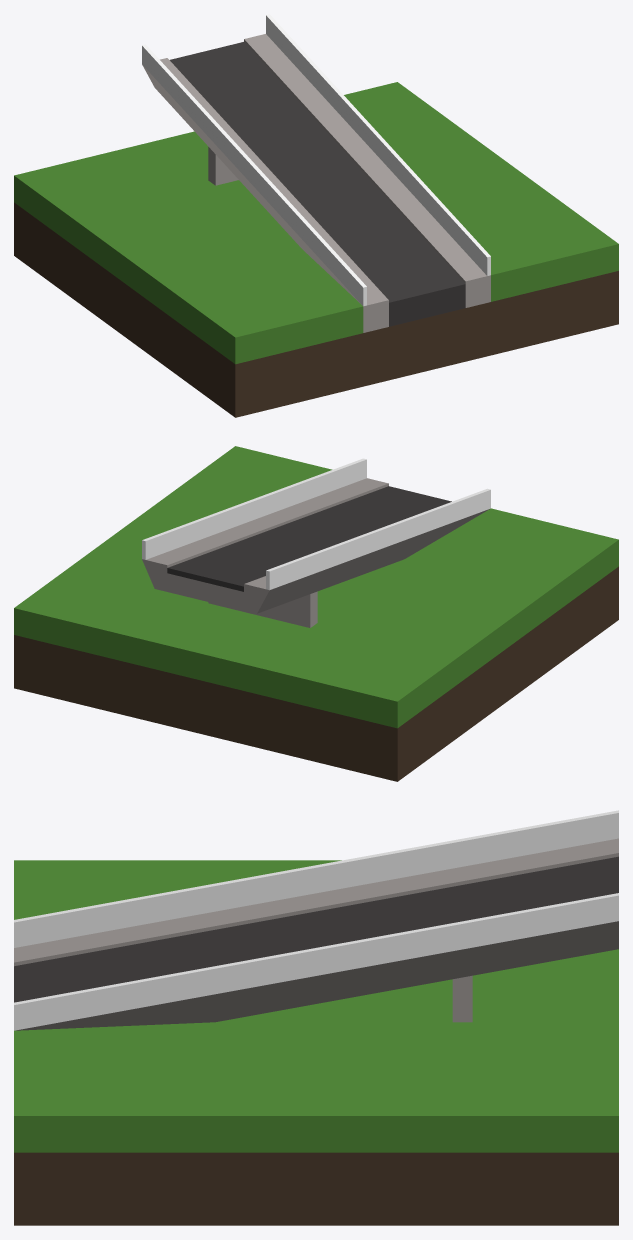
File: tiles_tile-bridge-road-hill.fbx
3 renders of one model, top to bottom at view 1: azimuth 30°, elevation 25°; view 2: azimuth 150°, elevation 25°; view 3: azimuth 270°, elevation 25°, orthographic. The views are drawn at different scales.
Visible parts, largest first — view 1: tiles_tile_bridge_road_hill; view 2: tiles_tile_bridge_road_hill; view 3: tiles_tile_bridge_road_hill.
Boxes of the visible parts, x1=… form: tiles_tile_bridge_road_hill: x1=14, y1=14, x2=618, y2=417; tiles_tile_bridge_road_hill: x1=14, y1=446, x2=618, y2=781; tiles_tile_bridge_road_hill: x1=14, y1=810, x2=618, y2=1225.
Size of the model in its own units: 200 by 89.33 by 200.
